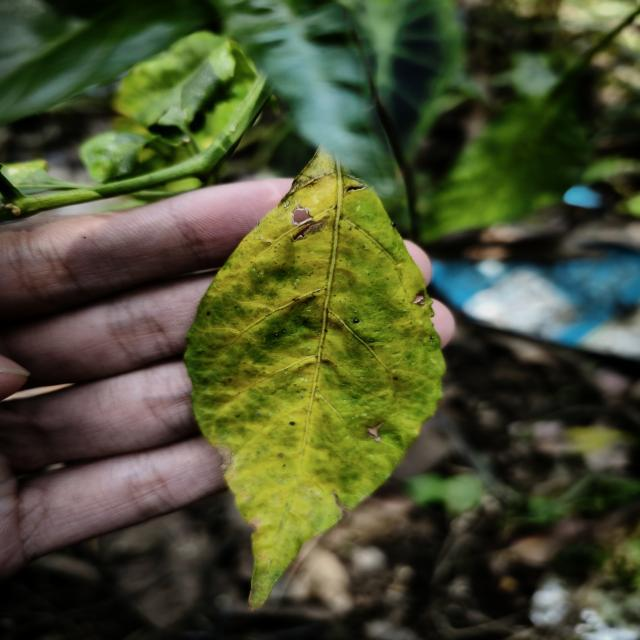Virus Kuning: (182, 144, 448, 610)
